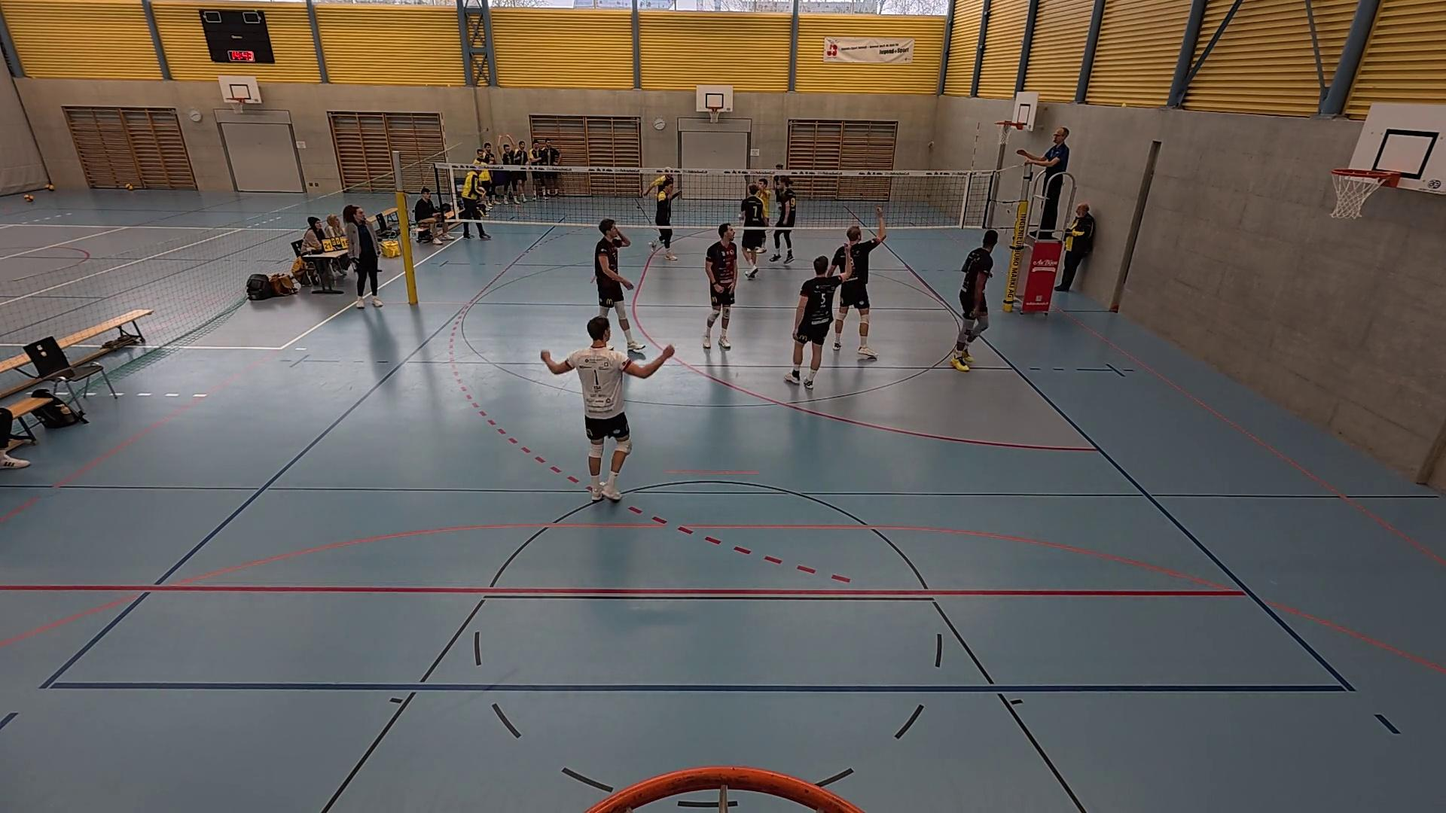Player: (542, 317, 670, 503), (831, 210, 886, 361), (786, 254, 844, 386), (593, 218, 646, 358), (950, 228, 997, 371), (703, 224, 740, 350), (738, 180, 773, 279), (648, 171, 682, 267), (643, 163, 675, 248), (769, 178, 797, 266), (753, 173, 771, 252), (770, 162, 792, 225)
